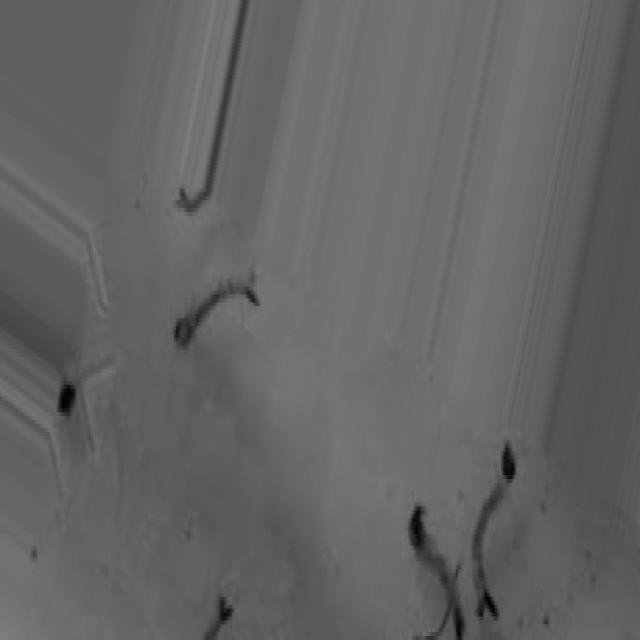larvas: (408, 502, 466, 636), (472, 441, 514, 617), (176, 271, 262, 346), (204, 598, 232, 640)
